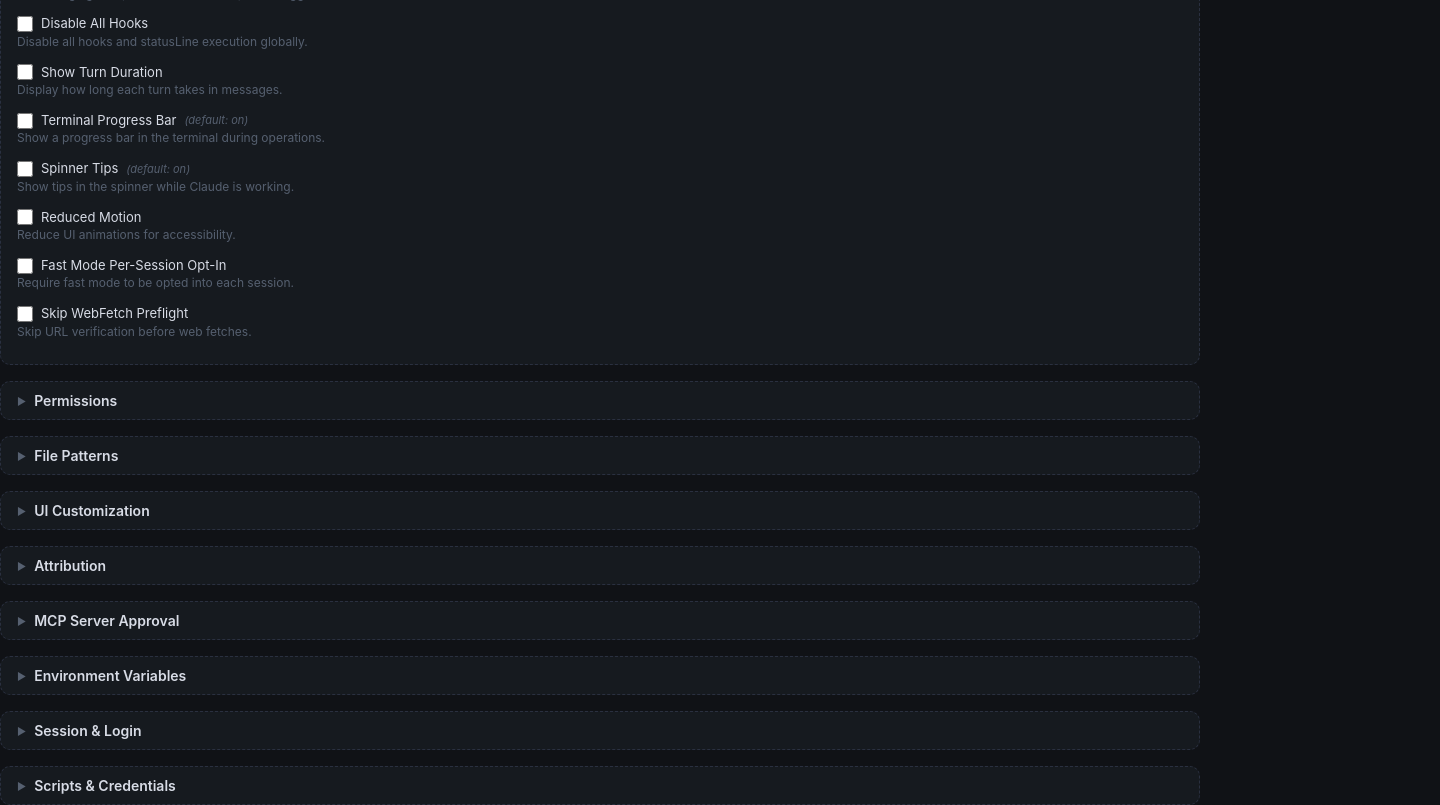
ConfigPage › can add allowed tool via Enter key
(page scrolled)
Click the button "▶ Permissions": (76, 401) [1,382,1199,420]
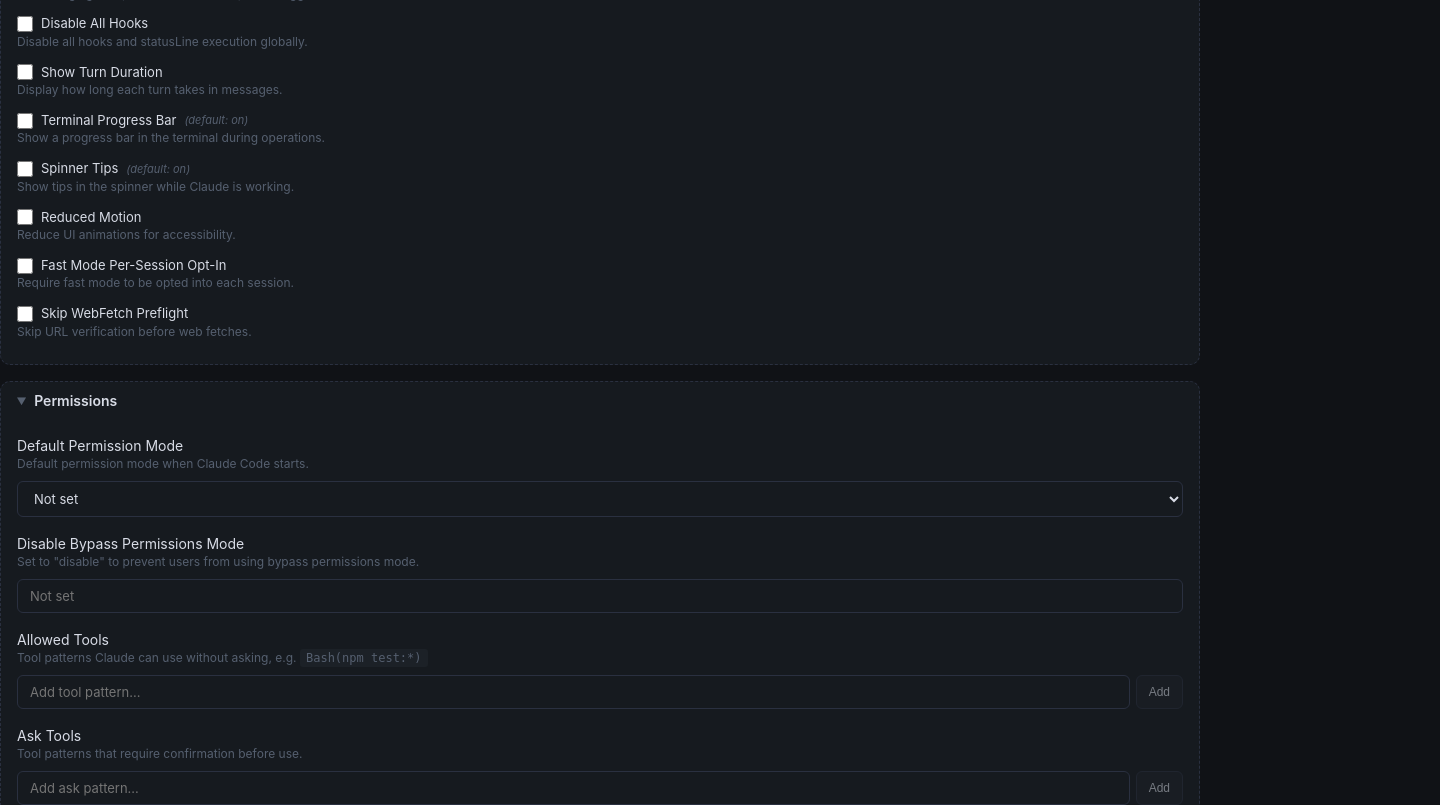
In the field with placeholder "Add tool pattern...": (573, 692) [17,675,1130,709], type "MyTool"
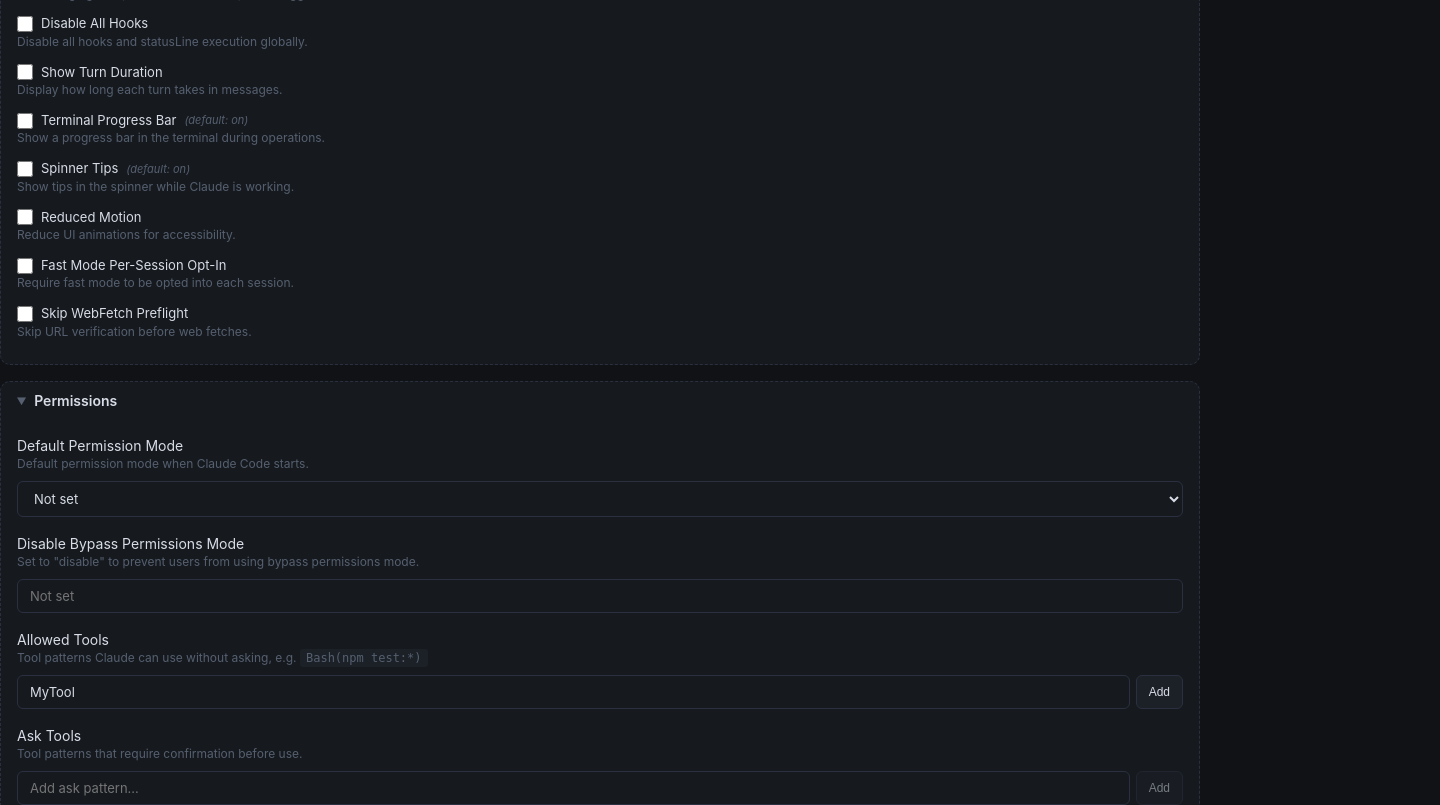
Press Enter in the field with placeholder "Add tool pattern...", box [17,675,1130,709]
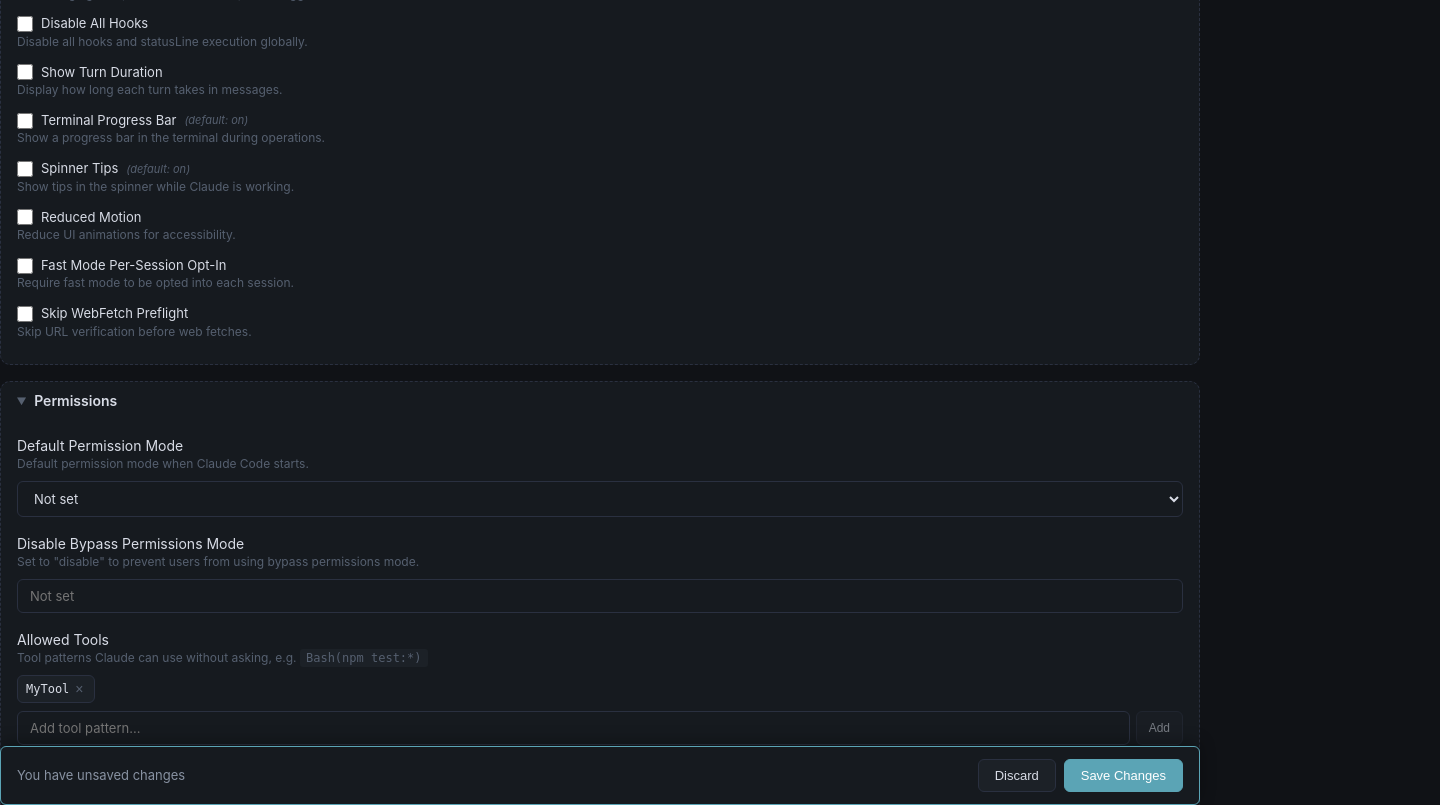
Expected: the text "MyTool" is shown, [26,682,69,696]
Expected: the button named "Remove MyTool" is shown, [73,682,86,696]
